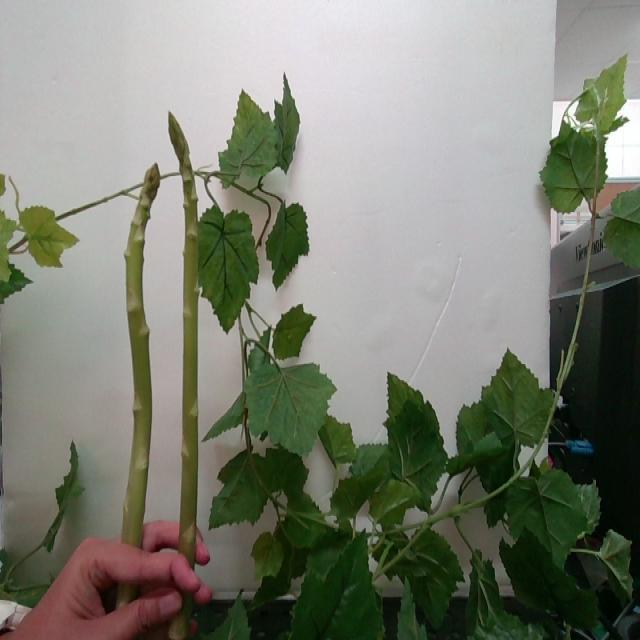aspargus: (120, 153, 162, 552), (168, 108, 202, 567)
